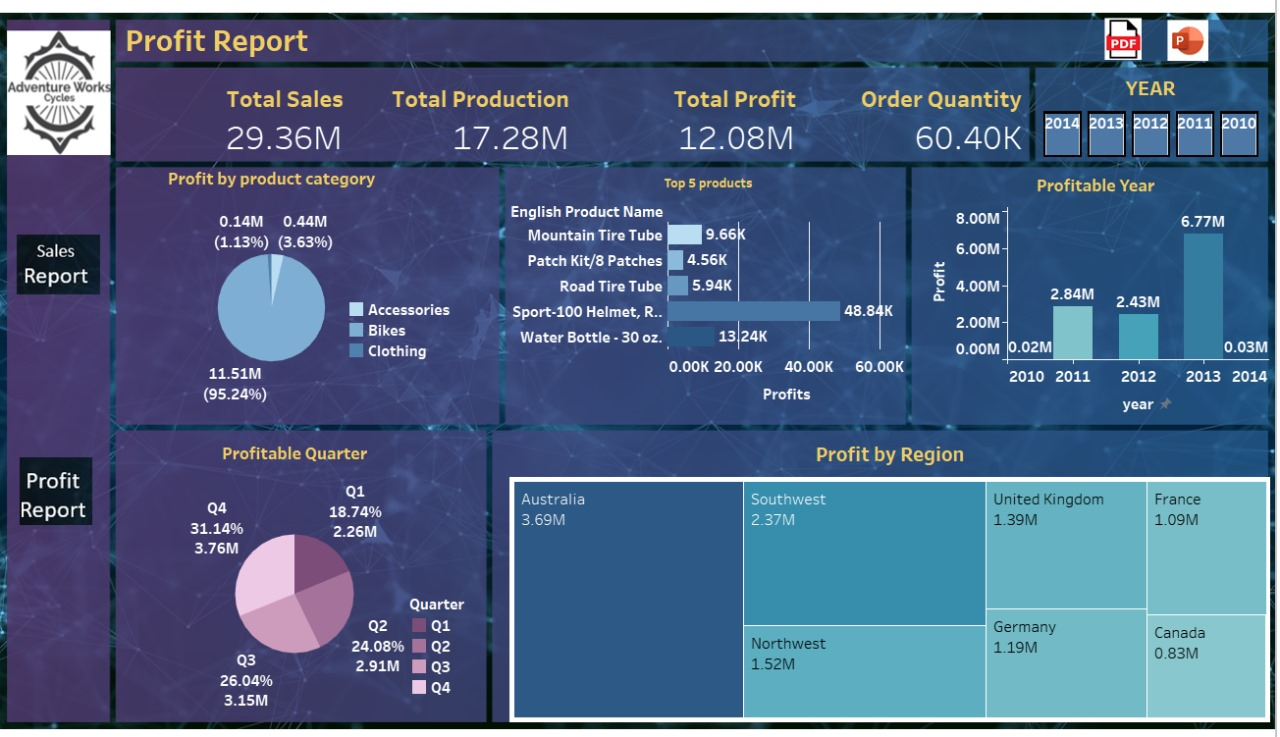

Layout of this report page (visuals, bound fields, positions):
{"tool":"powerbi","page":{"name":"Profit Report","canvas":[1280,720],"ordinal":3},"visuals":[{"type":"columnChart","title":"YEARWISE PROFIT","fields":{"Category":["combined_sales.Year"],"Y":["Sum(combined_sales.profit)"]},"box":[0,178.5,398.6,260.5],"z":0},{"type":"funnel","title":"PROFIT BY COUNTRY","fields":{"Category":["DimSalesterritory.SalesTerritoryCountry"],"Y":["Sum(combined_sales.profit)"]},"box":[413.3,439,419.4,259.2],"z":1000},{"type":"gauge","title":"SUM OF PROFIT","fields":{"Y":["Sum(combined_sales.profit)"]},"box":[413.3,178.5,409.6,260.5],"z":2000},{"type":"clusteredBarChart","title":"PROFIT BY PRODUCT CATEGORY","fields":{"Category":["DimProductCategory.EnglishProductCategoryName"],"Y":["Sum(combined_sales.profit)"]},"box":[848.6,179.8,419.4,259.2],"z":3000},{"type":"card","title":"Total Sales","fields":{"Values":["Sum(combined_sales.total sales amount)"]},"box":[136.3,59.1,249.7,103.8],"z":4000},{"type":"card","title":"Total Profit","fields":{"Values":["Sum(combined_sales.profit)"]},"box":[398.1,59.1,252.1,102.5],"z":5000},{"type":"card","title":"Order Quantity","fields":{"Values":["Sum(combined_sales.OrderQuantity)"]},"box":[664.7,61.5,213.5,101.3],"z":6000},{"type":"textbox","title":"PROFIT REPORT","box":[135.1,0,1137.7,37.4],"z":7000},{"type":"image","box":[0,0,118.6,162.6],"z":8000},{"type":"card","title":"Totoal Production","fields":{"Values":["Sum(combined_sales.total Production cost)"]},"box":[890.4,59.1,277.5,103.8],"z":9000},{"type":"tableEx","fields":{"Values":["combined_sales.product name","Sum(combined_sales.profit)"]},"box":[832.7,454.9,431.7,247],"z":10000},{"type":"shape","box":[144.8,0,90.5,37.4],"z":11000},{"type":"pivotTable","fields":{"Rows":["combined_sales.Year"]},"box":[1178.7,59.1,89.3,103.8],"z":12000},{"type":"pieChart","fields":{"Y":["Sum(combined_sales.profit)"],"Series":["combined_sales.Quarter"]},"box":[0,454.9,398.6,265.4],"z":13000}]}

Visuals, with their boxes in screenshot pixels (x1, y1, x2, y2), scaled from the page's 1280x720 canvas onto the 1280x737 screenshot:
"YEARWISE PROFIT" columnChart: bbox=[0, 183, 399, 449]
"PROFIT BY COUNTRY" funnel: bbox=[413, 449, 833, 715]
"SUM OF PROFIT" gauge: bbox=[413, 183, 823, 449]
"PROFIT BY PRODUCT CATEGORY" clusteredBarChart: bbox=[849, 184, 1268, 449]
"Total Sales" card: bbox=[136, 60, 386, 167]
"Total Profit" card: bbox=[398, 60, 650, 165]
"Order Quantity" card: bbox=[665, 63, 878, 167]
"PROFIT REPORT" textbox: bbox=[135, 0, 1273, 38]
image: bbox=[0, 0, 119, 166]
"Totoal Production" card: bbox=[890, 60, 1168, 167]
tableEx - combined_sales.product name x Sum(combined_sales.profit): bbox=[833, 466, 1264, 718]
shape: bbox=[145, 0, 235, 38]
pivotTable - combined_sales.Year: bbox=[1179, 60, 1268, 167]
pieChart - Sum(combined_sales.profit) x combined_sales.Quarter: bbox=[0, 466, 399, 736]
